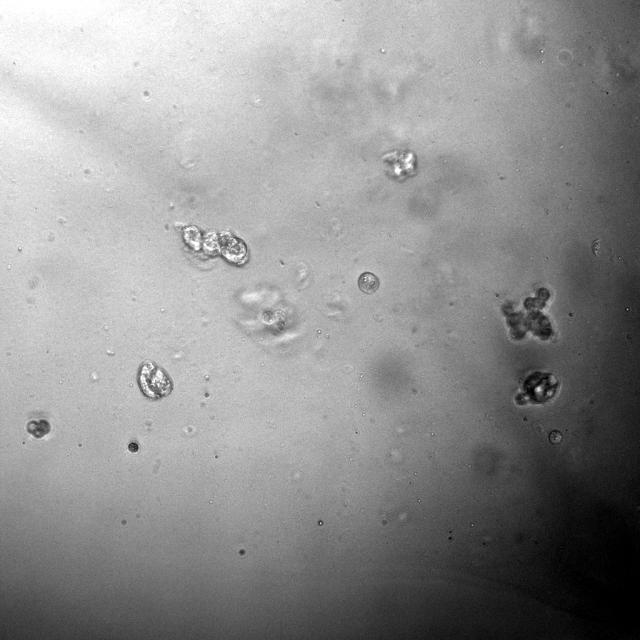organoid: (174, 223, 249, 266), (501, 287, 554, 341), (514, 371, 560, 405), (137, 360, 172, 399), (382, 149, 417, 182), (262, 309, 288, 334), (27, 419, 51, 438), (358, 272, 379, 293), (549, 430, 562, 444), (127, 440, 139, 452)
